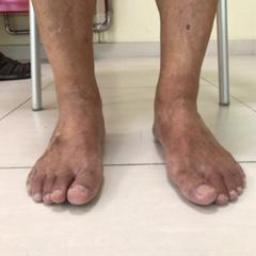Front View -Both Feet-: (16, 65, 255, 219)
